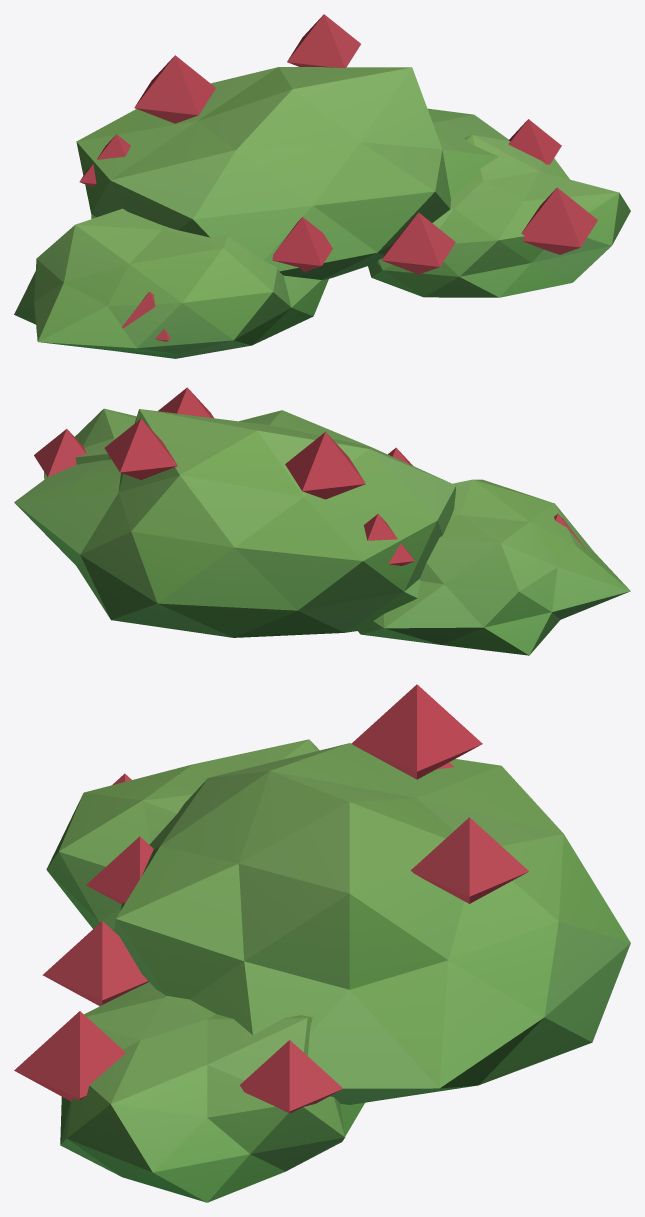
File: ground_bush_berry_v3.fbx
3 views of the same model, one above another, from view 1: azimuth 30°, elevation 25°; view 2: azimuth 150°, elevation 25°; view 3: azimuth 270°, elevation 25° (orthographic). The views are drawn at different scales.
Parts seen in each view (by area): view 1: ground_bush_berry_v3; view 2: ground_bush_berry_v3; view 3: ground_bush_berry_v3.
Part boxes in pixels (x1,y1,x2,y2): ground_bush_berry_v3: (14, 14, 630, 358); ground_bush_berry_v3: (14, 387, 630, 655); ground_bush_berry_v3: (14, 684, 630, 1202).
Bounding box in the file's own units: 627 × 214 × 412.
